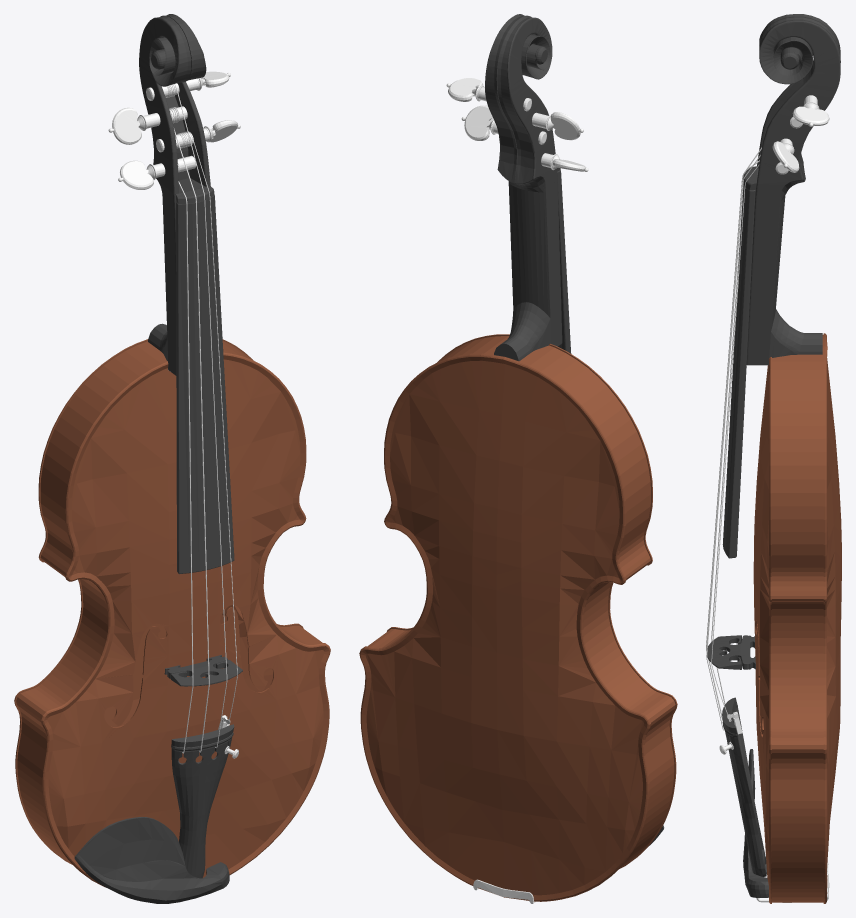
The model's file is violin.glb.
3 renders of one model, left to right at view 1: azimuth 30°, elevation 25°; view 2: azimuth 150°, elevation 25°; view 3: azimuth 270°, elevation 25°, orthographic.
Parts seen in each view (by area): view 1: violin_body, violinrestbody, violintinypiecesSAMEmaterial; view 2: violin_body, violinrestbody, violintinypiecesSAMEmaterial; view 3: violin_body, violinrestbody, violintinypiecesSAMEmaterial.
Part boxes in pixels (x1,y1,x2,y2): violin_body: (14, 339, 330, 887); violinrestbody: (74, 14, 242, 903); violintinypiecesSAMEmaterial: (108, 71, 240, 758); violin_body: (359, 334, 677, 901); violinrestbody: (485, 14, 664, 846); violintinypiecesSAMEmaterial: (446, 78, 588, 903); violin_body: (753, 333, 841, 903); violinrestbody: (707, 14, 840, 897); violintinypiecesSAMEmaterial: (706, 95, 829, 902).
Bounding box in the file's own units: 0.509 × 1.46 × 0.2053.
